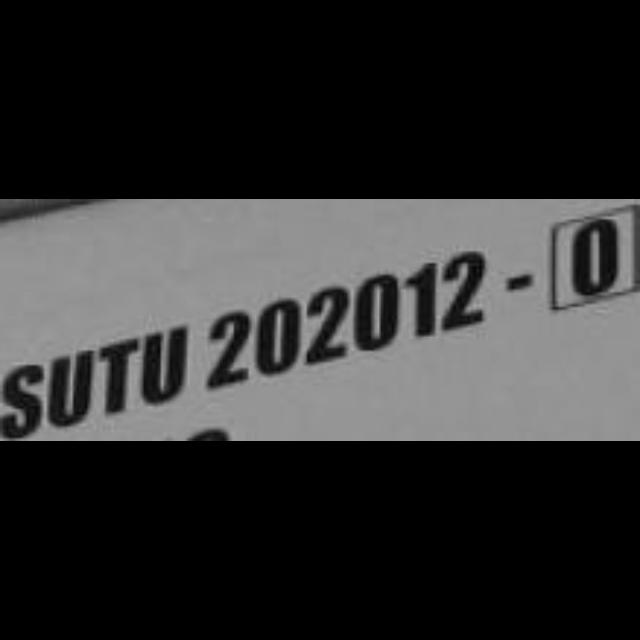0: (567, 214, 621, 304), (255, 292, 301, 380), (354, 267, 401, 347)
1: (402, 254, 438, 344)
2: (439, 247, 491, 337), (303, 280, 353, 368), (204, 306, 253, 394)
s: (0, 354, 46, 442)
t: (98, 333, 140, 419)
u: (48, 343, 96, 431), (142, 320, 192, 400)
